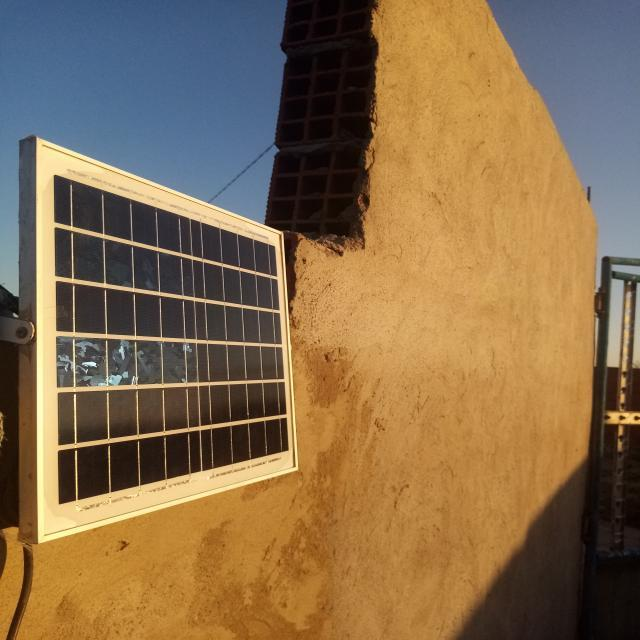no faulty: (37, 145, 297, 535)
